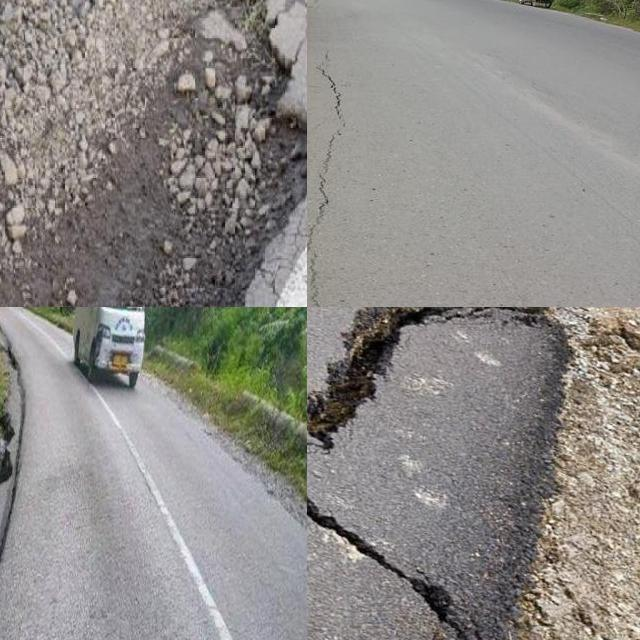Memanjang: (307, 64, 355, 307)
Pinggir: (307, 307, 601, 640), (0, 0, 307, 307), (0, 351, 44, 640)
